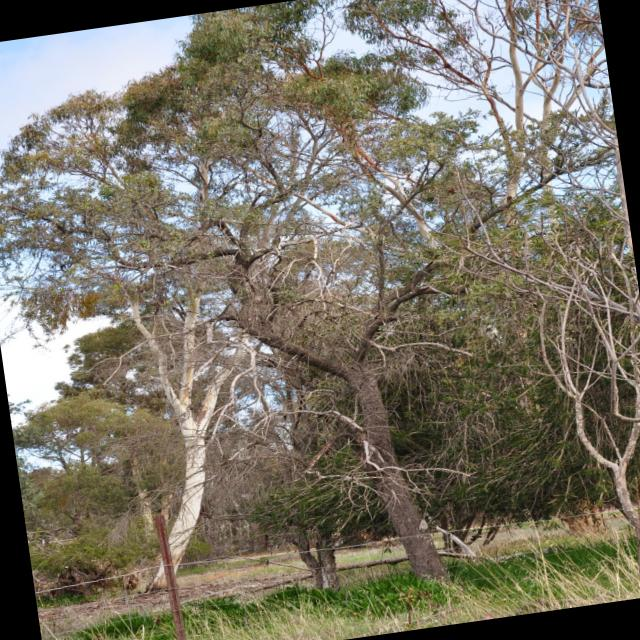Medicinal-Sandalwood: (106, 0, 564, 564), (0, 25, 307, 578), (403, 0, 640, 509)
